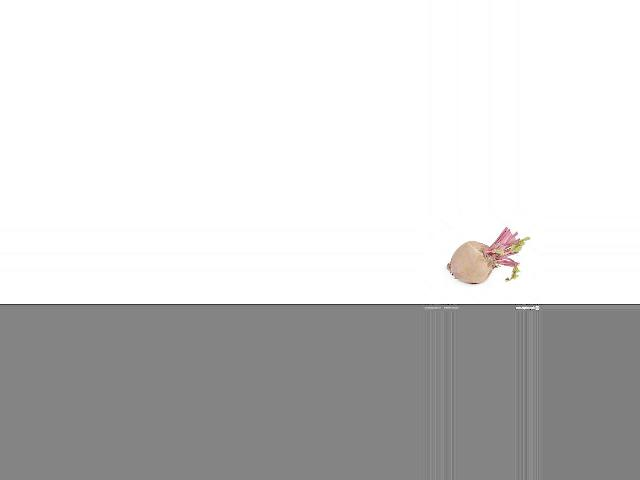beet: (446, 227, 529, 284)
